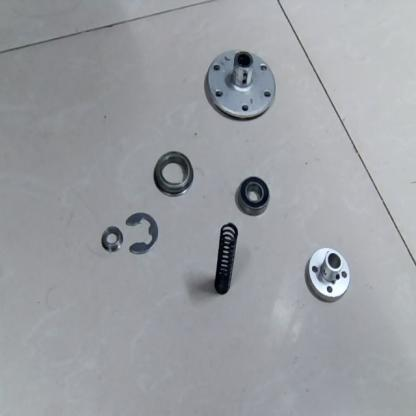FOD: (19, 10, 415, 409), (202, 43, 278, 121), (303, 245, 352, 304), (210, 222, 240, 298), (151, 147, 197, 195), (233, 172, 274, 218), (126, 209, 161, 258), (97, 224, 125, 252)
